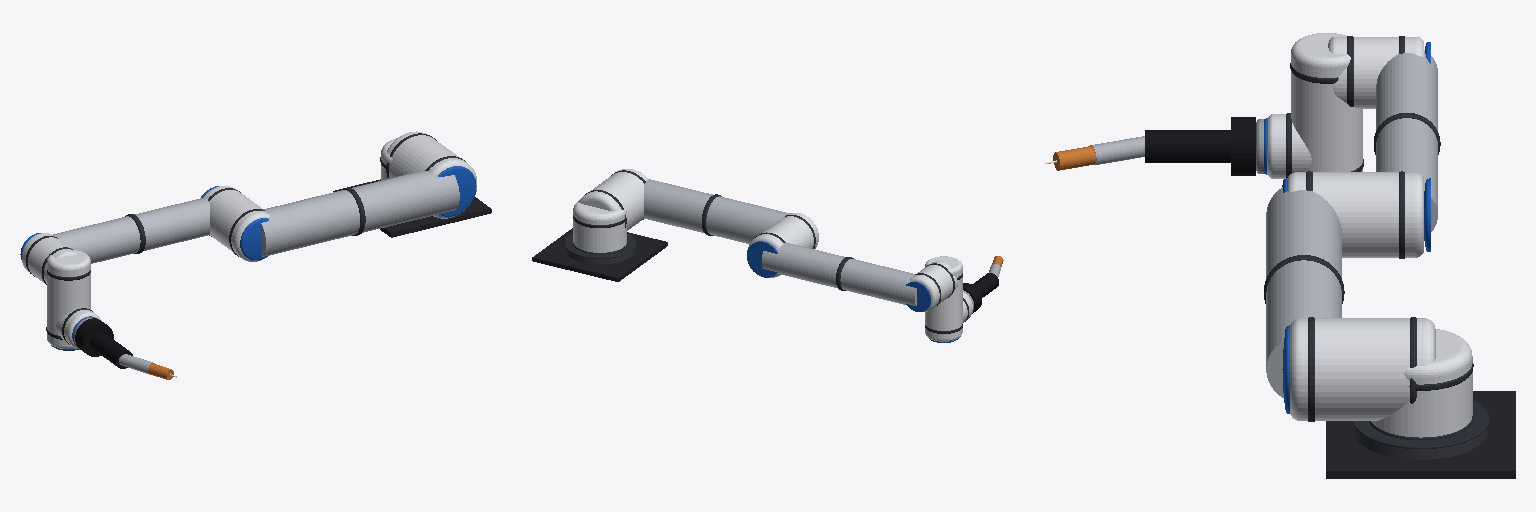
robot.urdf — sixaxis_ur5like:
<?xml version="1.0"?>
<robot name="sixaxis_ur5like">
  <material name="housing"><color rgba="0.86 0.87 0.89 1.0"/></material>
  <material name="tube"><color rgba="0.72 0.74 0.77 1.0"/></material>
  <material name="cap"><color rgba="0.16 0.42 0.78 1.0"/></material>
  <material name="ring"><color rgba="0.22 0.23 0.26 1.0"/></material>
  <material name="base"><color rgba="0.28 0.29 0.32 1.0"/></material>
  <material name="plate"><color rgba="0.18 0.18 0.2 1.0"/></material>
  <material name="flange"><color rgba="0.62 0.64 0.67 1.0"/></material>
  <material name="tcp"><color rgba="0.95 0.55 0.1 1.0"/></material>
  <link name="base_link">
    <inertial><mass value="1"/><inertia ixx="1" iyy="1" izz="1" ixy="0" ixz="0" iyz="0"/></inertial>
    <visual><origin xyz="0.0 0.0 0.005" rpy="0.0 0.0 0.0"/><geometry><box size="0.22 0.22 0.01"/></geometry><material name="plate"/></visual>
    <collision><origin xyz="0.0 0.0 0.005" rpy="0.0 0.0 0.0"/><geometry><box size="0.22 0.22 0.01"/></geometry></collision>
    <visual><origin xyz="0.0 0.0 0.0185" rpy="0.0 0.0 0.0"/><geometry><mesh filename="meshes/housing_L0170_R0780.obj" scale="1 1 1"/></geometry><material name="base"/></visual>
    <collision><origin xyz="0.0 0.0 0.0185" rpy="0.0 0.0 0.0"/><geometry><cylinder length="0.017" radius="0.078"/></geometry></collision>
    <visual><origin xyz="0.0 0.0 0.0255" rpy="0.0 0.0 0.0"/><geometry><mesh filename="meshes/ring_L0030_R0800.obj" scale="1 1 1"/></geometry><material name="ring"/></visual>
  </link>
  <link name="link1">
    <inertial><origin xyz="0.0 0.0 0.0445795" rpy="0.0 0.0 0.0"/><mass value="3.7"/><inertia ixx="0.005781042578308333" iyy="0.005781042578308333" izz="0.00666" ixy="0" ixz="0" iyz="0"/></inertial>
    <visual><origin xyz="0.0 0.0 0.06" rpy="0.0 0.0 0.0"/><geometry><mesh filename="meshes/housing_L1200_R0600.obj" scale="1 1 1"/></geometry><material name="housing"/></visual>
    <collision><origin xyz="0.0 0.0 0.06" rpy="0.0 0.0 0.0"/><geometry><cylinder length="0.12" radius="0.06"/></geometry></collision>
    <visual><origin xyz="0.0 0.0 0.025999999999999995" rpy="0.0 0.0 0.0"/><geometry><mesh filename="meshes/ring_L0100_R0612.obj" scale="1 1 1"/></geometry><material name="ring"/></visual>
    <visual><origin xyz="0.0 0.0 0.094" rpy="0.0 0.0 0.0"/><geometry><mesh filename="meshes/ring_L0100_R0612.obj" scale="1 1 1"/></geometry><material name="ring"/></visual>
  </link>
  <link name="link2">
    <inertial><origin xyz="-0.2125 0.0 0.0" rpy="0.0 -1.5707963267948966 0.0"/><mass value="8.393"/><inertia ixx="0.13267934166666667" iyy="0.13267934166666667" izz="0.012694412500000002" ixy="0" ixz="0" iyz="0"/></inertial>
    <visual><origin xyz="0.0 0.0 0.068" rpy="0.0 0.0 0.0"/><geometry><mesh filename="meshes/housing_L1700_R0600.obj" scale="1 1 1"/></geometry><material name="housing"/></visual>
    <collision><origin xyz="0.0 0.0 0.068" rpy="0.0 0.0 0.0"/><geometry><cylinder length="0.17" radius="0.06"/></geometry></collision>
    <visual><origin xyz="0.0 0.0 0.008999999999999994" rpy="0.0 0.0 0.0"/><geometry><mesh filename="meshes/ring_L0100_R0612.obj" scale="1 1 1"/></geometry><material name="ring"/></visual>
    <visual><origin xyz="0.0 0.0 0.15600000000000003" rpy="0.0 0.0 0.0"/><geometry><mesh filename="meshes/cap_L0100_R0516.obj" scale="1 1 1"/></geometry><material name="cap"/></visual>
    <visual><origin xyz="0.0 0.0 0.127" rpy="0.0 0.0 0.0"/><geometry><mesh filename="meshes/ring_L0100_R0612.obj" scale="1 1 1"/></geometry><material name="ring"/></visual>
    <visual><origin xyz="-0.2125 0.0 0.13585" rpy="0.0 -1.5707963267948966 0.0"/><geometry><mesh filename="meshes/tube_L4250_R0440.obj" scale="1 1 1"/></geometry><material name="tube"/></visual>
    <collision><origin xyz="-0.2125 0.0 0.13585" rpy="0.0 -1.5707963267948966 0.0"/><geometry><cylinder length="0.425" radius="0.044"/></geometry></collision>
    <visual><origin xyz="-0.2125 0.0 0.13585" rpy="-0.0 1.5707963267948966 0.0"/><geometry><mesh filename="meshes/ring_L0120_R0470.obj" scale="1 1 1"/></geometry><material name="ring"/></visual>
  </link>
  <link name="link3">
    <inertial><origin xyz="-0.196125 0.0 0.0" rpy="0.0 -1.5707963267948966 0.0"/><mass value="2.275"/><inertia ixx="0.030321022265624994" iyy="0.030321022265624994" izz="0.0023034375" ixy="0" ixz="0" iyz="0"/></inertial>
    <visual><origin xyz="0.0 0.0 0.076" rpy="0.0 0.0 0.0"/><geometry><mesh filename="meshes/housing_L1600_R0500.obj" scale="1 1 1"/></geometry><material name="housing"/></visual>
    <collision><origin xyz="0.0 0.0 0.076" rpy="0.0 0.0 0.0"/><geometry><cylinder length="0.16" radius="0.05"/></geometry></collision>
    <visual><origin xyz="0.0 0.0 -0.007000000000000006" rpy="0.0 0.0 0.0"/><geometry><mesh filename="meshes/cap_L0100_R0430.obj" scale="1 1 1"/></geometry><material name="cap"/></visual>
    <visual><origin xyz="0.0 0.0 0.021999999999999992" rpy="0.0 0.0 0.0"/><geometry><mesh filename="meshes/ring_L0100_R0510.obj" scale="1 1 1"/></geometry><material name="ring"/></visual>
    <visual><origin xyz="0.0 0.0 0.159" rpy="0.0 0.0 0.0"/><geometry><mesh filename="meshes/cap_L0100_R0430.obj" scale="1 1 1"/></geometry><material name="cap"/></visual>
    <visual><origin xyz="0.0 0.0 0.13" rpy="0.0 0.0 0.0"/><geometry><mesh filename="meshes/ring_L0100_R0510.obj" scale="1 1 1"/></geometry><material name="ring"/></visual>
    <visual><origin xyz="-0.196125 0.0 0.016149999999999998" rpy="0.0 -1.5707963267948966 0.0"/><geometry><mesh filename="meshes/tube_L3922_R0360.obj" scale="1 1 1"/></geometry><material name="tube"/></visual>
    <collision><origin xyz="-0.196125 0.0 0.016149999999999998" rpy="0.0 -1.5707963267948966 0.0"/><geometry><cylinder length="0.39225" radius="0.036"/></geometry></collision>
    <visual><origin xyz="-0.196125 0.0 0.016149999999999998" rpy="-0.0 1.5707963267948966 0.0"/><geometry><mesh filename="meshes/ring_L0120_R0390.obj" scale="1 1 1"/></geometry><material name="ring"/></visual>
  </link>
  <link name="link4">
    <inertial><origin xyz="0.0 0.0 0.054575" rpy="0.0 0.0 0.0"/><mass value="1.219"/><inertia ixx="0.0016978356439583335" iyy="0.0016978356439583335" izz="0.0009752000000000001" ixy="0" ixz="0" iyz="0"/></inertial>
    <visual><origin xyz="0.0 0.0 0.052" rpy="0.0 0.0 0.0"/><geometry><mesh filename="meshes/housing_L1120_R0420.obj" scale="1 1 1"/></geometry><material name="housing"/></visual>
    <collision><origin xyz="0.0 0.0 0.052" rpy="0.0 0.0 0.0"/><geometry><cylinder length="0.112" radius="0.042"/></geometry></collision>
    <visual><origin xyz="0.0 0.0 -0.006999999999999999" rpy="0.0 0.0 0.0"/><geometry><mesh filename="meshes/cap_L0100_R0361.obj" scale="1 1 1"/></geometry><material name="cap"/></visual>
    <visual><origin xyz="0.0 0.0 0.021999999999999995" rpy="0.0 0.0 0.0"/><geometry><mesh filename="meshes/ring_L0100_R0428.obj" scale="1 1 1"/></geometry><material name="ring"/></visual>
    <visual><origin xyz="0.0 0.0 0.082" rpy="0.0 0.0 0.0"/><geometry><mesh filename="meshes/ring_L0100_R0428.obj" scale="1 1 1"/></geometry><material name="ring"/></visual>
  </link>
  <link name="link5">
    <inertial><origin xyz="0.0 0.0 0.047325" rpy="0.0 0.0 0.0"/><mass value="1.219"/><inertia ixx="0.001397646735625" iyy="0.001397646735625" izz="0.0009752000000000001" ixy="0" ixz="0" iyz="0"/></inertial>
    <visual><origin xyz="0.0 0.0 0.0535" rpy="0.0 0.0 0.0"/><geometry><mesh filename="meshes/housing_L1770_R0420.obj" scale="1 1 1"/></geometry><material name="housing"/></visual>
    <collision><origin xyz="0.0 0.0 0.0535" rpy="0.0 0.0 0.0"/><geometry><cylinder length="0.177" radius="0.042"/></geometry></collision>
    <visual><origin xyz="0.0 0.0 -0.009000000000000001" rpy="0.0 0.0 0.0"/><geometry><mesh filename="meshes/ring_L0100_R0428.obj" scale="1 1 1"/></geometry><material name="ring"/></visual>
    <visual><origin xyz="0.0 0.0 0.145" rpy="0.0 0.0 0.0"/><geometry><mesh filename="meshes/cap_L0100_R0361.obj" scale="1 1 1"/></geometry><material name="cap"/></visual>
    <visual><origin xyz="0.0 0.0 0.11599999999999999" rpy="0.0 0.0 0.0"/><geometry><mesh filename="meshes/ring_L0100_R0428.obj" scale="1 1 1"/></geometry><material name="ring"/></visual>
  </link>
  <link name="link6">
    <inertial><origin xyz="0.0 0.0 0.04115" rpy="0.0 0.0 0.0"/><mass value="0.1879"/><inertia ixx="0.00016360280758333335" iyy="0.00016360280758333335" izz="0.00011508875000000002" ixy="0" ixz="0" iyz="0"/></inertial>
    <visual><origin xyz="0.0 0.0 0.0275" rpy="0.0 0.0 0.0"/><geometry><mesh filename="meshes/housing_L0850_R0380.obj" scale="1 1 1"/></geometry><material name="housing"/></visual>
    <collision><origin xyz="0.0 0.0 0.0275" rpy="0.0 0.0 0.0"/><geometry><cylinder length="0.085" radius="0.038"/></geometry></collision>
    <visual><origin xyz="0.0 0.0 0.010999999999999996" rpy="0.0 0.0 0.0"/><geometry><mesh filename="meshes/ring_L0100_R0388.obj" scale="1 1 1"/></geometry><material name="ring"/></visual>
    <visual><origin xyz="0.0 0.0 0.073" rpy="0.0 0.0 0.0"/><geometry><mesh filename="meshes/cap_L0100_R0327.obj" scale="1 1 1"/></geometry><material name="cap"/></visual>
    <visual><origin xyz="0.0 0.0 0.044000000000000004" rpy="0.0 0.0 0.0"/><geometry><mesh filename="meshes/ring_L0100_R0388.obj" scale="1 1 1"/></geometry><material name="ring"/></visual>
    <visual><origin xyz="0.0 0.0 0.07629999999999999" rpy="0.0 0.0 0.0"/><geometry><mesh filename="meshes/ring_L0120_R0320.obj" scale="1 1 1"/></geometry><material name="flange"/></visual>
    <collision><origin xyz="0.0 0.0 0.07629999999999999" rpy="0.0 0.0 0.0"/><geometry><cylinder length="0.012" radius="0.032"/></geometry></collision>
    <visual><origin xyz="0.0 0.0 0.0818" rpy="0.0 0.0 0.0"/><geometry><cylinder length="0.001" radius="0.01"/></geometry><material name="tcp"/></visual>
  </link>
  <link name="flange"><inertial><mass value="1e-06"/><inertia ixx="1e-12" iyy="1e-12" izz="1e-12" ixy="0" ixz="0" iyz="0"/></inertial></link>
  <joint name="joint1" type="revolute"><parent link="base_link"/><child link="link1"/><origin xyz="0.0 0.0 0.0" rpy="0.0 0.0 0.0"/><axis xyz="0 0 1"/><limit lower="-6.283185307179586" upper="6.283185307179586" effort="150.0" velocity="3.141592653589793"/></joint>
  <joint name="joint2" type="revolute"><parent link="link1"/><child link="link2"/><origin xyz="0.0 0.0 0.089159" rpy="1.5707963267948966 0.0 0.0"/><axis xyz="0 0 1"/><limit lower="-6.283185307179586" upper="6.283185307179586" effort="150.0" velocity="3.141592653589793"/></joint>
  <joint name="joint3" type="revolute"><parent link="link2"/><child link="link3"/><origin xyz="-0.425 0.0 0.0" rpy="0.0 0.0 0.0"/><axis xyz="0 0 1"/><limit lower="-6.283185307179586" upper="6.283185307179586" effort="150.0" velocity="3.141592653589793"/></joint>
  <joint name="joint4" type="revolute"><parent link="link3"/><child link="link4"/><origin xyz="-0.39225 0.0 0.0" rpy="0.0 0.0 0.0"/><axis xyz="0 0 1"/><limit lower="-6.283185307179586" upper="6.283185307179586" effort="28.0" velocity="3.141592653589793"/></joint>
  <joint name="joint5" type="revolute"><parent link="link4"/><child link="link5"/><origin xyz="0.0 0.0 0.10915" rpy="1.5707963267948966 0.0 0.0"/><axis xyz="0 0 1"/><limit lower="-6.283185307179586" upper="6.283185307179586" effort="28.0" velocity="3.141592653589793"/></joint>
  <joint name="joint6" type="revolute"><parent link="link5"/><child link="link6"/><origin xyz="0.0 0.0 0.09465" rpy="-1.5707963267948966 0.0 0.0"/><axis xyz="0 0 1"/><limit lower="-6.283185307179586" upper="6.283185307179586" effort="28.0" velocity="3.141592653589793"/></joint>
  <joint name="flange_joint" type="fixed"><parent link="link6"/><child link="flange"/><origin xyz="0.0 0.0 0.0823" rpy="0.0 0.0 0.0"/></joint>
  <material name="tbody"><color rgba="0.13 0.13 0.15 1"/></material>
  <material name="tneck"><color rgba="0.70 0.72 0.75 1"/></material>
  <material name="tnozzle"><color rgba="0.80 0.50 0.25 1"/></material>
  <material name="twire"><color rgba="0.95 0.90 0.80 1"/></material>
  <link name="torch"><inertial><mass value="1.2"/><origin xyz="0.008 0.0 0.095"/><inertia ixx="0.004840" iyy="0.004840" izz="3e-4" ixy="0" ixz="0" iyz="0"/></inertial><visual><origin xyz="0 0 0.015000"/><geometry><cylinder length="0.030000" radius="0.034"/></geometry><material name="tbody"/></visual><collision><origin xyz="0 0 0.015000"/><geometry><cylinder length="0.030000" radius="0.034"/></geometry></collision><visual><origin xyz="0 0 0.080000"/><geometry><cylinder length="0.100000" radius="0.019"/></geometry><material name="tbody"/></visual><collision><origin xyz="0 0 0.080000"/><geometry><cylinder length="0.100000" radius="0.019"/></geometry></collision><visual><origin xyz="0.010302 0 0.155498" rpy="0 0.383972 0"/><geometry><cylinder length="0.075000" radius="0.012"/></geometry><material name="tneck"/></visual><collision><origin xyz="0.010302 0 0.155498" rpy="0 0.383972 0"/><geometry><cylinder length="0.075000" radius="0.012"/></geometry></collision><visual><origin xyz="0.032778 0 0.211129" rpy="0 0.383972 0"/><geometry><cylinder length="0.045000" radius="0.011"/></geometry><material name="tnozzle"/></visual><collision><origin xyz="0.032778 0 0.211129" rpy="0 0.383972 0"/><geometry><cylinder length="0.045000" radius="0.011"/></geometry></collision><visual><origin xyz="0.044016 0 0.238944" rpy="0 0.383972 0"/><geometry><cylinder length="0.015000" radius="0.0012"/></geometry><material name="twire"/></visual></link>
  <link name="tcp"><inertial><mass value="1e-6"/><inertia ixx="1e-12" iyy="1e-12" izz="1e-12" ixy="0" ixz="0" iyz="0"/></inertial></link>
  <joint name="torch_mount" type="fixed"><parent link="flange"/><child link="torch"/></joint>
  <joint name="tcp_joint" type="fixed"><parent link="torch"/><child link="tcp"/><origin xyz="0.046825824 0.000000000 0.245897982" rpy="0 0.383972435 0"/></joint>
</robot>

--- What the picture shows (computed from the rendered views, not written in the file) ---
The picture shows the robot from 3 angles, left to right: view 1: azimuth 30°, elevation 25°; view 2: azimuth 150°, elevation 25°; view 3: azimuth 270°, elevation 25°; orthographic projection.
Model sixaxis_ur5like with 10 links and 9 joints (6 revolute, 3 fixed), rooted at base_link, posed all joints at 0.
Links seen in each view (by area): view 1: link2, link3, link5, torch, link4, base_link, link6; view 2: link2, link3, base_link, link1, link5, link4, torch; view 3: link2, link3, base_link, link5, link1, torch, link4, link6.
Boxes of the visible links, x1,y1,x2,y2 form: link2: (261,131,476,256); link3: (53,186,269,263); link5: (46,250,90,350); torch: (75,318,176,379); link4: (20,233,76,284); base_link: (333,179,491,237); link6: (56,308,100,349); link2: (578,169,789,243); link3: (747,213,916,305); base_link: (532,228,667,281); link1: (573,202,627,253); link5: (925,256,962,342); link4: (906,261,957,311); torch: (963,256,1003,313); link2: (1264,187,1435,421); link3: (1282,50,1440,258); base_link: (1326,391,1515,478); link5: (1290,33,1363,171); link1: (1369,329,1473,439); torch: (1045,117,1255,175); link4: (1328,36,1430,108); link6: (1256,113,1311,178).
Size in the robot's own frame: 0.9701 by 0.5478 by 0.2112 metres.
Meshes: 21 distinct files referenced, 31 mesh visuals loaded (21 OBJ).
